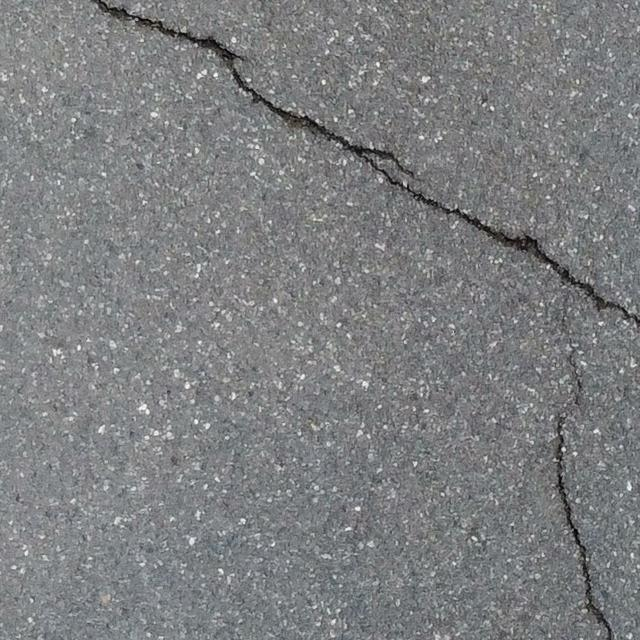LongitudinalCrack: (552, 338, 617, 640)
TransverseCrack: (92, 1, 640, 328)
